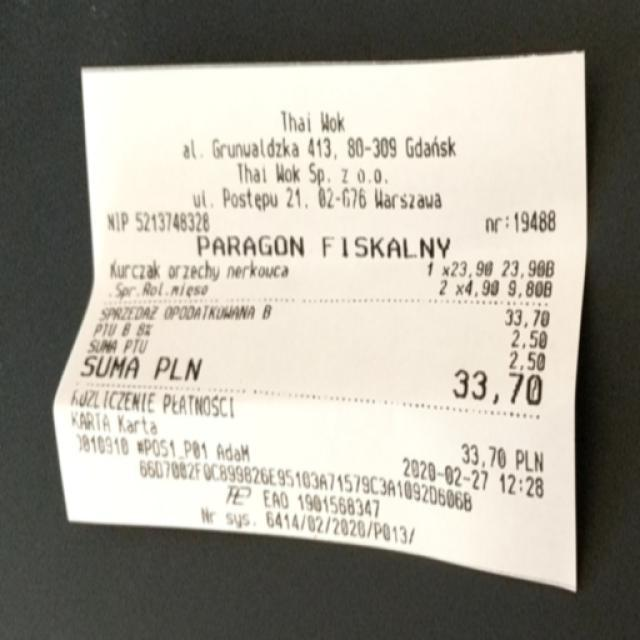document: (54, 54, 586, 590)
